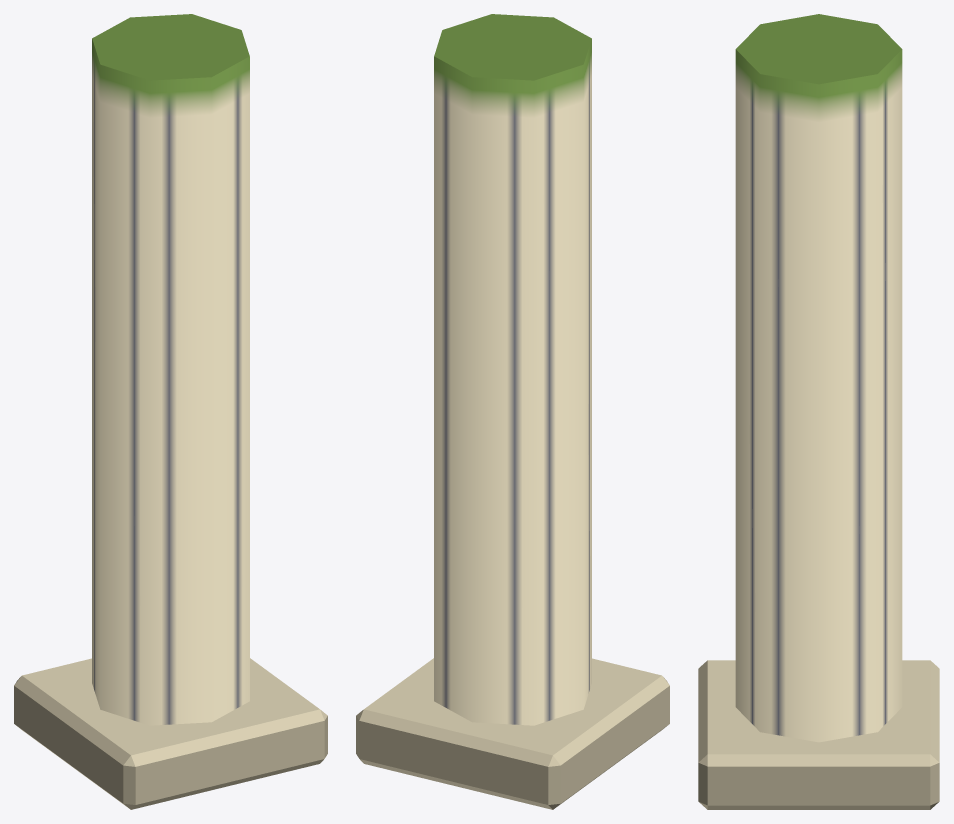
Rendered from prop_column3_b57c.glb.
The picture shows the model from 3 angles, left to right: view 1: azimuth 30°, elevation 25°; view 2: azimuth 150°, elevation 25°; view 3: azimuth 270°, elevation 25°; orthographic projection. The views are drawn at different scales.
Visible parts, largest first — view 1: prop_column3_b57c; view 2: prop_column3_b57c; view 3: prop_column3_b57c.
Part boxes in pixels (x1=…): prop_column3_b57c: x1=14, y1=14, x2=327, y2=809; prop_column3_b57c: x1=356, y1=14, x2=669, y2=809; prop_column3_b57c: x1=698, y1=14, x2=939, y2=809.
Size of the model in its own units: 0.4862 by 1.59 by 0.4862.
1 material, 1 textured.
